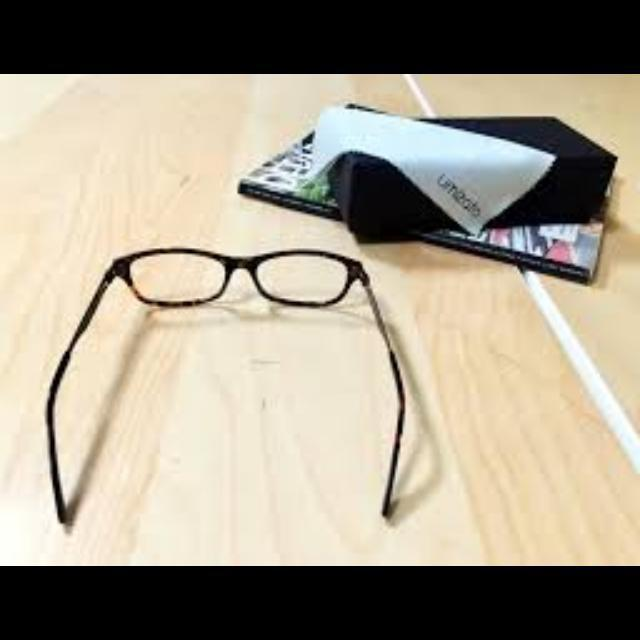glasses: (43, 244, 404, 526)
